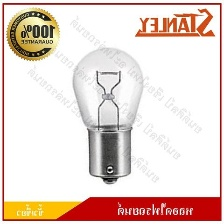light_bulb: (69, 43, 145, 186)
